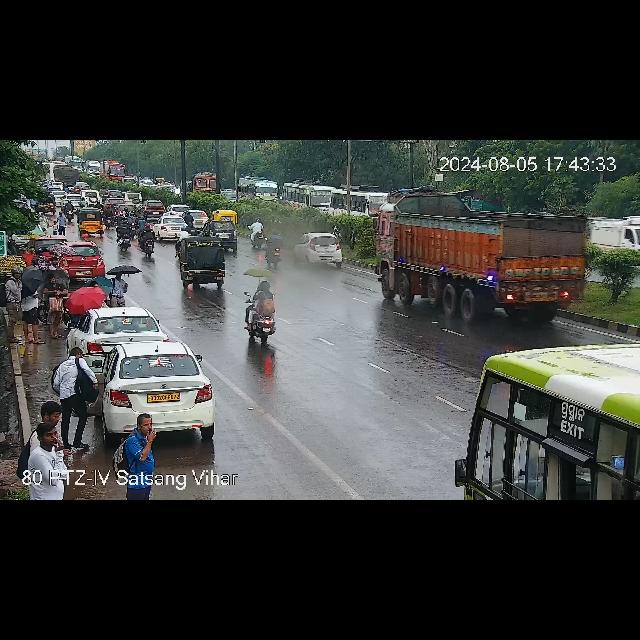bus: (456, 338, 640, 500), (100, 162, 126, 182)
car: (68, 340, 220, 436), (71, 308, 165, 352), (180, 238, 230, 290), (296, 233, 346, 265), (59, 242, 105, 274), (154, 217, 192, 240), (76, 207, 105, 235), (204, 222, 240, 238), (186, 211, 210, 227), (79, 190, 101, 206), (213, 211, 239, 223), (142, 200, 168, 212), (170, 205, 196, 215), (123, 190, 141, 204), (105, 196, 124, 206)
motorcycle: (245, 288, 283, 344), (264, 228, 284, 270), (110, 206, 146, 228), (251, 218, 273, 248), (137, 226, 157, 256), (115, 219, 135, 249), (175, 226, 188, 248)
person: (29, 406, 72, 469), (117, 413, 159, 471), (54, 350, 84, 428), (22, 272, 46, 344), (48, 279, 70, 339), (36, 212, 70, 238), (108, 272, 128, 304), (24, 244, 40, 264)
truck: (375, 209, 595, 313), (190, 169, 216, 195), (53, 166, 81, 184), (61, 193, 79, 207), (66, 200, 74, 223)
